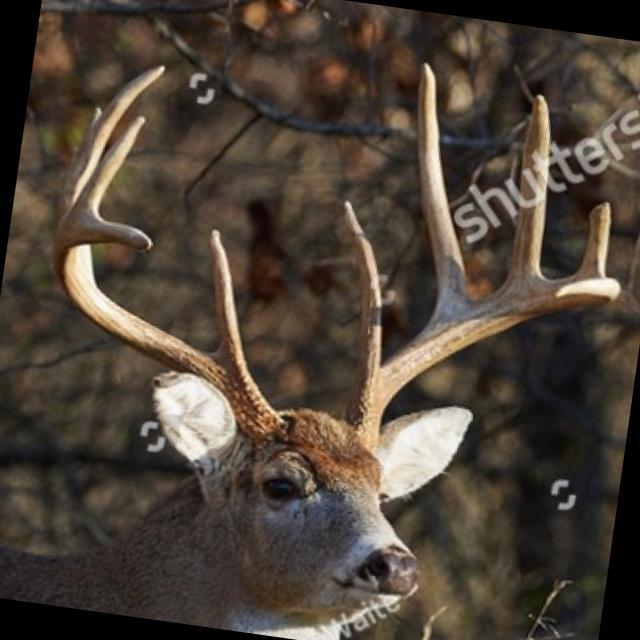L-F: (342, 274, 623, 452)
L-G1: (343, 197, 383, 383)
L-G2: (417, 61, 470, 316)
L-G3: (507, 93, 551, 281)
L-G4: (575, 201, 613, 278)
R-F: (50, 218, 281, 438)
R-G1: (208, 228, 246, 361)
R-G4: (72, 114, 147, 217)
